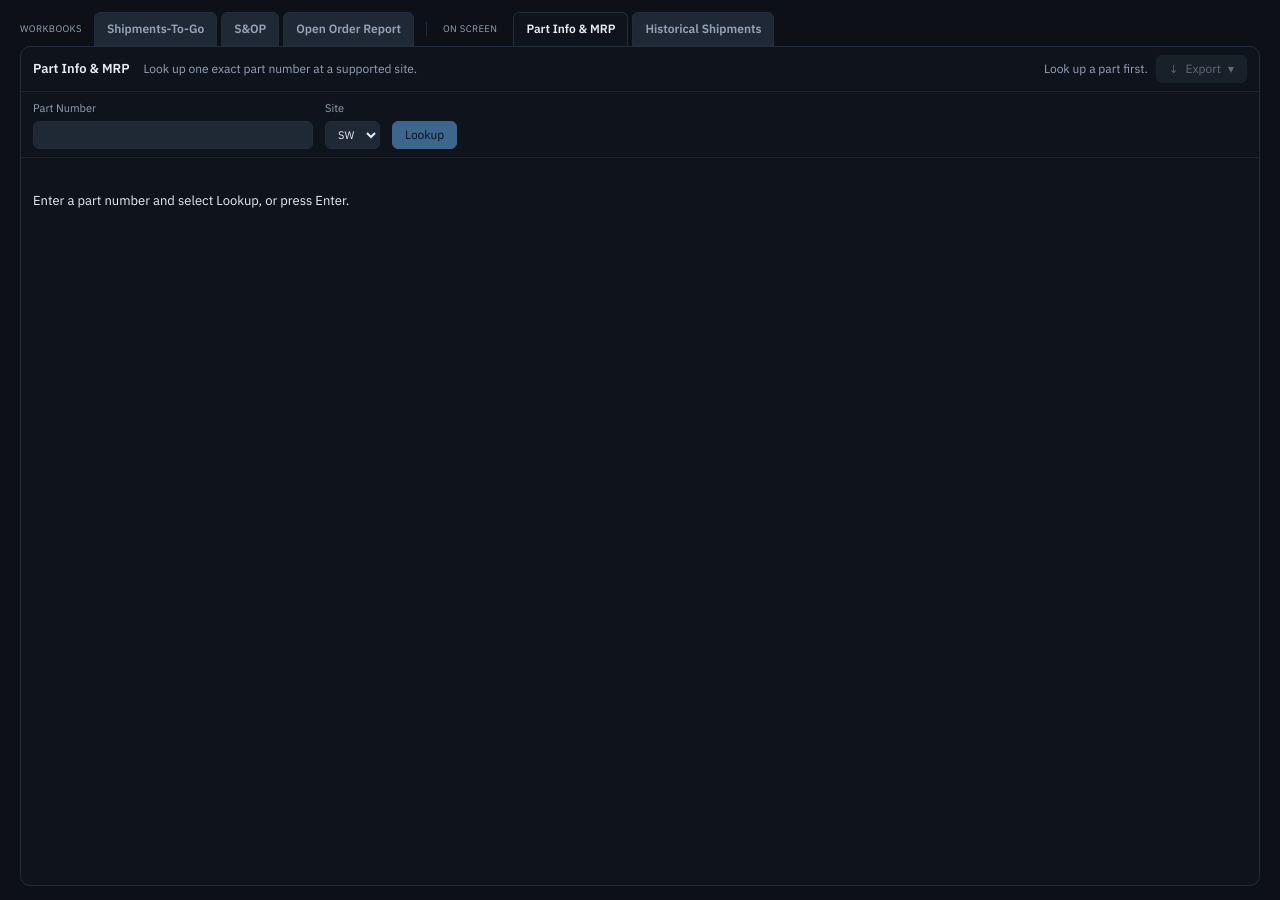
Test: Reports combined Part Info and shared protected export — offline mocked host › uses combined default, five grouped entries, scope-slot reason and accepted MRP defaults
The image size is (1280, 900).
Expected: the navigation bar named "Report selector" shows "Workbooks", [20, 22, 82, 35]
Expected: the button "↓ Export ▾" is disabled, [1156, 55, 1247, 83]
Type " ABC " into the field labelled "Part Number". click: (173, 134)
box: [33, 120, 313, 148]
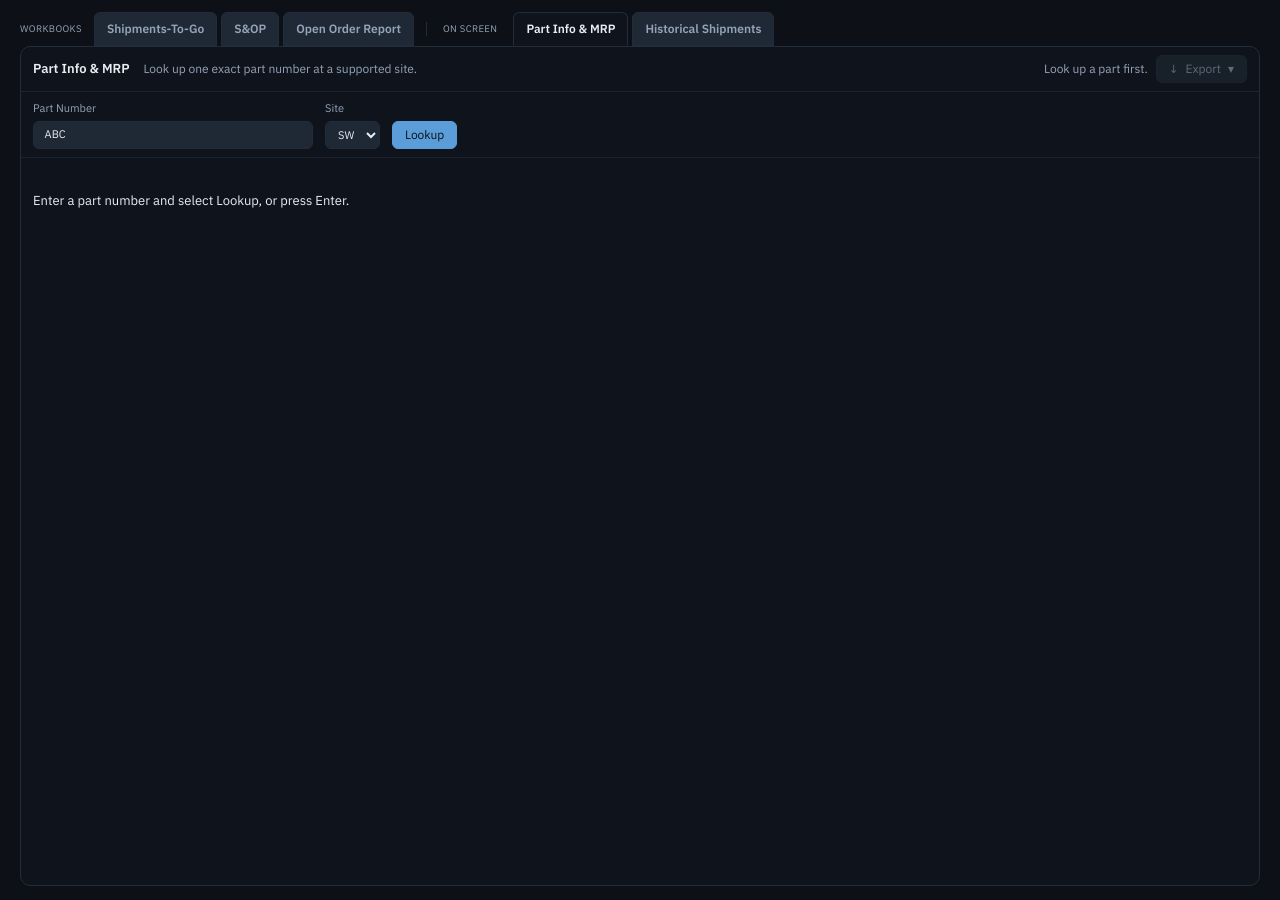
Submit the form labelled "Part Number", box [21, 92, 1259, 158]
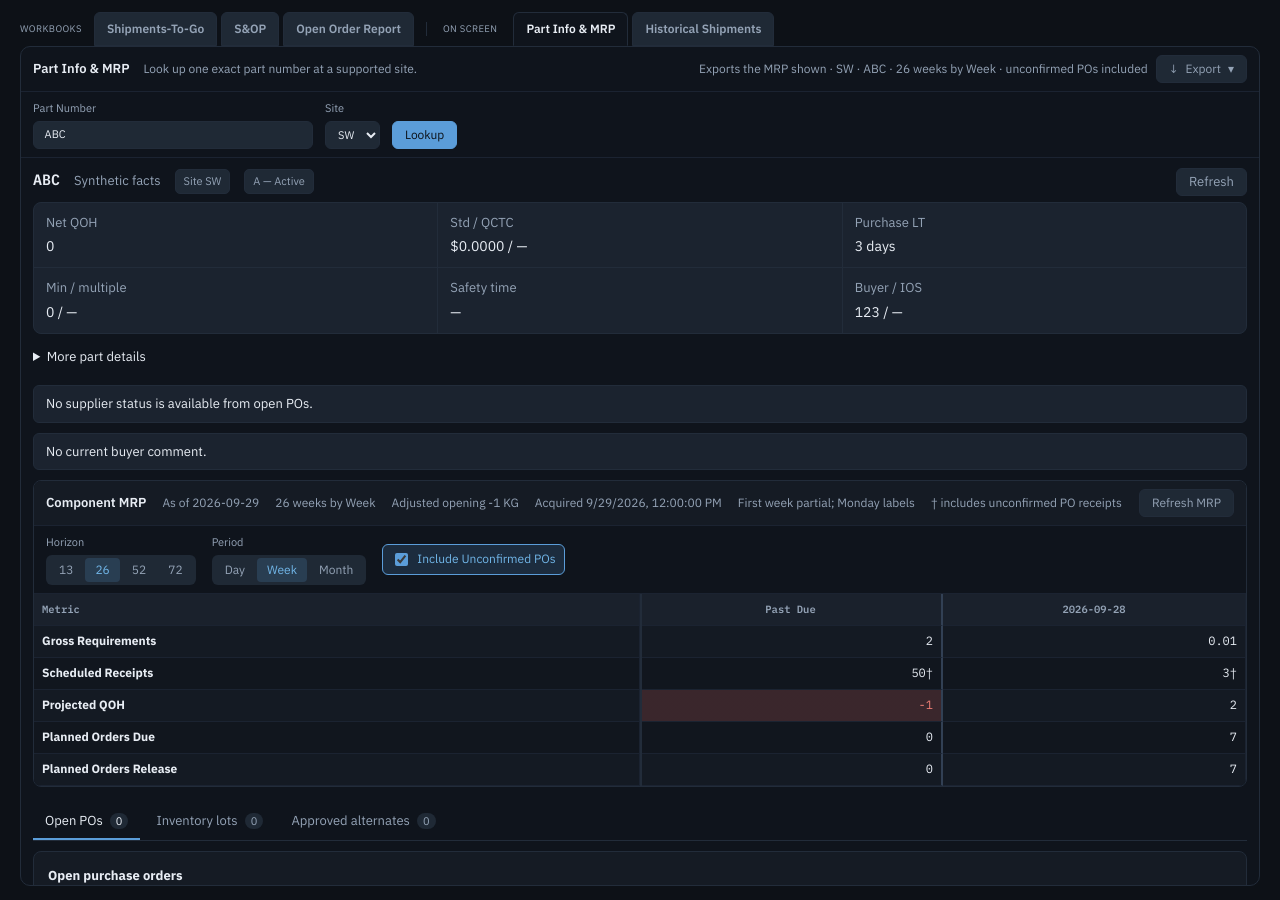
Expected: the table named "Component MRP periods" is shown, [34, 594, 1246, 786]
Expected: the button "↓ Export ▾" is enabled, [1156, 55, 1247, 83]
Expected: the checkbox labelled "Include Unconfirmed POs" is checked, [395, 553, 408, 566]
